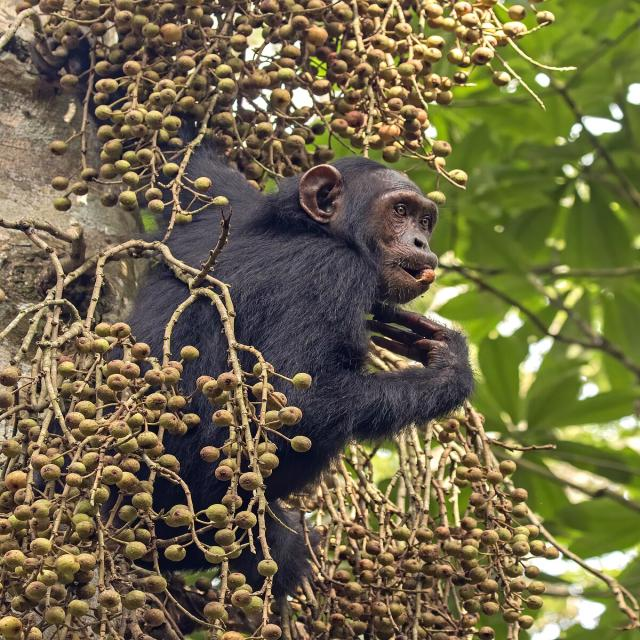Chimpanzee: (136, 159, 475, 491)
